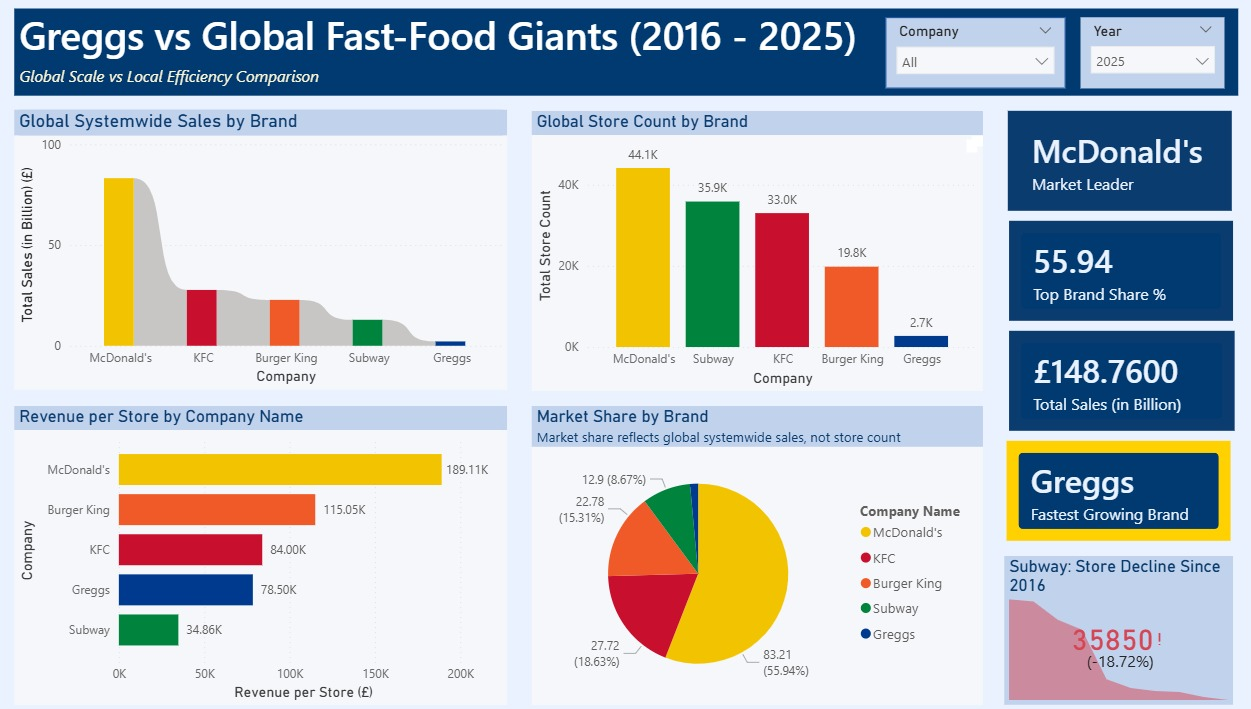

What the dashboard file says about the page in this screenshot:
{"tool":"powerbi","page":{"name":"Page 1","canvas":[1280,720],"ordinal":0},"visuals":[{"type":"shape","box":[0,0,1280,720],"z":0},{"type":"textbox","title":"Greggs vs Global Fast-Food Giants (2016 - 2025)","box":[25.7,17.1,1224.3,87.1],"z":1000},{"type":"cardVisual","fields":{"Data":["Sum(Table1.Revenue (in Billion) (UK Pounds))"]},"box":[1016.2,335,235,110],"z":2000},{"type":"slicer","fields":{"Values":["Table1.Company Name"]},"box":[897.6,25.7,179.8,70.9],"z":3000},{"type":"slicer","fields":{"Values":["Table1.Year"]},"box":[1092,25.7,144.3,70.9],"z":4000},{"type":"cardVisual","fields":{"Data":["Table1.Fastest Growing Brand"]},"box":[1013.7,445.1,234.8,110.1],"z":5000},{"type":"cardVisual","fields":{"Data":["Table1.Market Leader"]},"box":[1015,114.9,234.8,110.1],"z":6000},{"type":"ribbonChart","title":"Global Systemwide Sales by Brand","fields":{"Category":["Table1.Company Name"],"Y":["Sum(Table1.Systemwide Sales (Billion))"]},"box":[25.7,118.6,492.8,280],"z":7000},{"type":"clusteredColumnChart","title":"Global Store Count by Brand","fields":{"Category":["Table1.Company Name"],"Y":["Max(Table17.Store Count)"]},"box":[544.2,119.8,451.2,280],"z":8000},{"type":"clusteredBarChart","fields":{"Category":["Table1.Company Name"],"Y":["Table1.Revenue per Store"]},"box":[25.7,414.5,492.8,299.6],"z":9000},{"type":"slicer","fields":{"Values":["Table1.Year"]},"box":[978.3,149.2,9.8,12.2],"z":10000},{"type":"cardVisual","fields":{"Data":["Table1.Top Brand Share %"]},"box":[1016.2,225,234.8,110.1],"z":11000},{"type":"pieChart","title":"Market Share by Brand","fields":{"Category":["Table1.Company Name"],"Y":["Sum(Table1.Systemwide Sales (Billion))"]},"box":[544.2,414.5,451.2,299.6],"z":12000},{"type":"slicer","fields":{"Values":["Table17.Company Name"]},"box":[978.8,148.8,10,12.5],"z":13000},{"type":"kpi","title":"Subway: Store Decline Since 2016","fields":{"Goal":["Table17.Stores Target (2016)"],"Indicator":["Table17.Total Stores (New)"],"TrendLine":["Table17.Year"]},"box":[1016.2,564.9,229,149.2],"z":14000},{"type":"slicer","fields":{"Values":["Table17.Year"]},"box":[983.8,145,11.2,10],"z":15000}]}

Visuals, with their boxes in screenshot pixels (x1, y1, x2, y2), scaled from the page's 1280x720 canvas onto the 1251x709 screenshot:
shape: 0/0/1250/708
"Greggs vs Global Fast-Food Giants (2016 - 2025)" textbox: 25/17/1222/103
cardVisual - Sum(Table1.Revenue (in Billion) (UK Pounds)): 993/330/1223/438
slicer - Table1.Company Name: 877/25/1053/95
slicer - Table1.Year: 1067/25/1208/95
cardVisual - Table1.Fastest Growing Brand: 991/438/1220/547
cardVisual - Table1.Market Leader: 992/113/1221/222
"Global Systemwide Sales by Brand" ribbonChart: 25/117/507/393
"Global Store Count by Brand" clusteredColumnChart: 532/118/973/394
clusteredBarChart - Table1.Company Name x Table1.Revenue per Store: 25/408/507/703
slicer - Table1.Year: 956/147/966/159
cardVisual - Table1.Top Brand Share %: 993/222/1223/330
"Market Share by Brand" pieChart: 532/408/973/703
slicer - Table17.Company Name: 957/147/966/159
"Subway: Store Decline Since 2016" kpi: 993/556/1217/703
slicer - Table17.Year: 962/143/972/153
